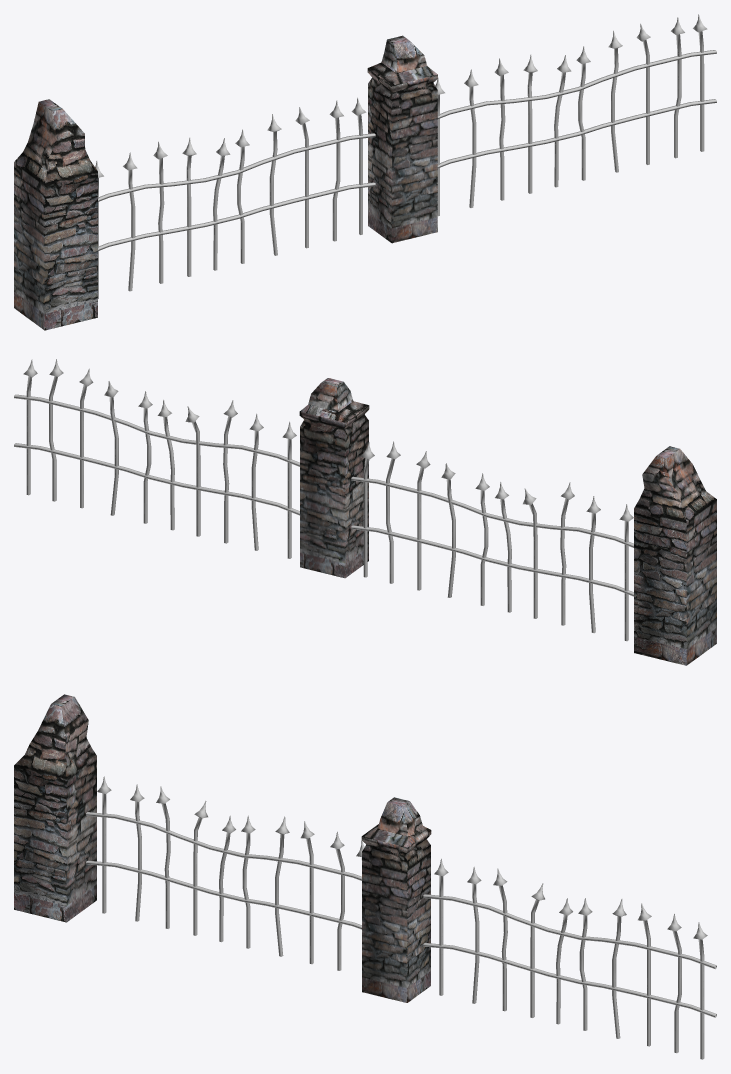
Rendered from fence1.fbx.
3 views of the same model, one above another, from view 1: azimuth 30°, elevation 25°; view 2: azimuth 150°, elevation 25°; view 3: azimuth 330°, elevation 25° (orthographic).
Parts seen in each view (by area): view 1: fence1_LOD0; view 2: fence1_LOD0; view 3: fence1_LOD0.
Part boxes in pixels (x1,y1,x2,y2): fence1_LOD0: (14,14,716,330); fence1_LOD0: (14,359,716,665); fence1_LOD0: (14,694,716,1059).
Size of what is drawn, in the model's own units: 12.66 by 3.55 by 0.9763.
